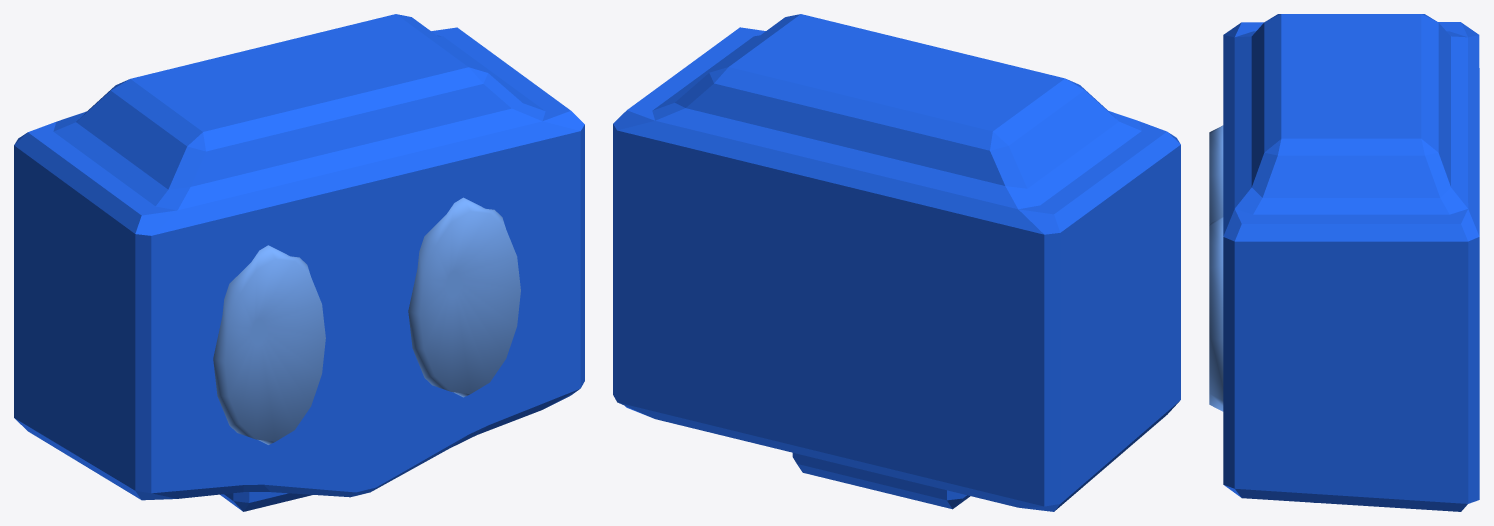
The model's file is Pi Head.fbx.
3 views of the same model, side by side, from view 1: azimuth 30°, elevation 25°; view 2: azimuth 150°, elevation 25°; view 3: azimuth 270°, elevation 25° (orthographic). The views are drawn at different scales.
Parts seen in each view (by area): view 1: Pi Head; view 2: Pi Head; view 3: Pi Head.
Boxes of the visible parts, x1,y1,x2,y2 form: Pi Head: (14, 14, 584, 511); Pi Head: (613, 14, 1180, 511); Pi Head: (1209, 14, 1479, 511).
Bounding box in the file's own units: 215 × 185 × 116.
